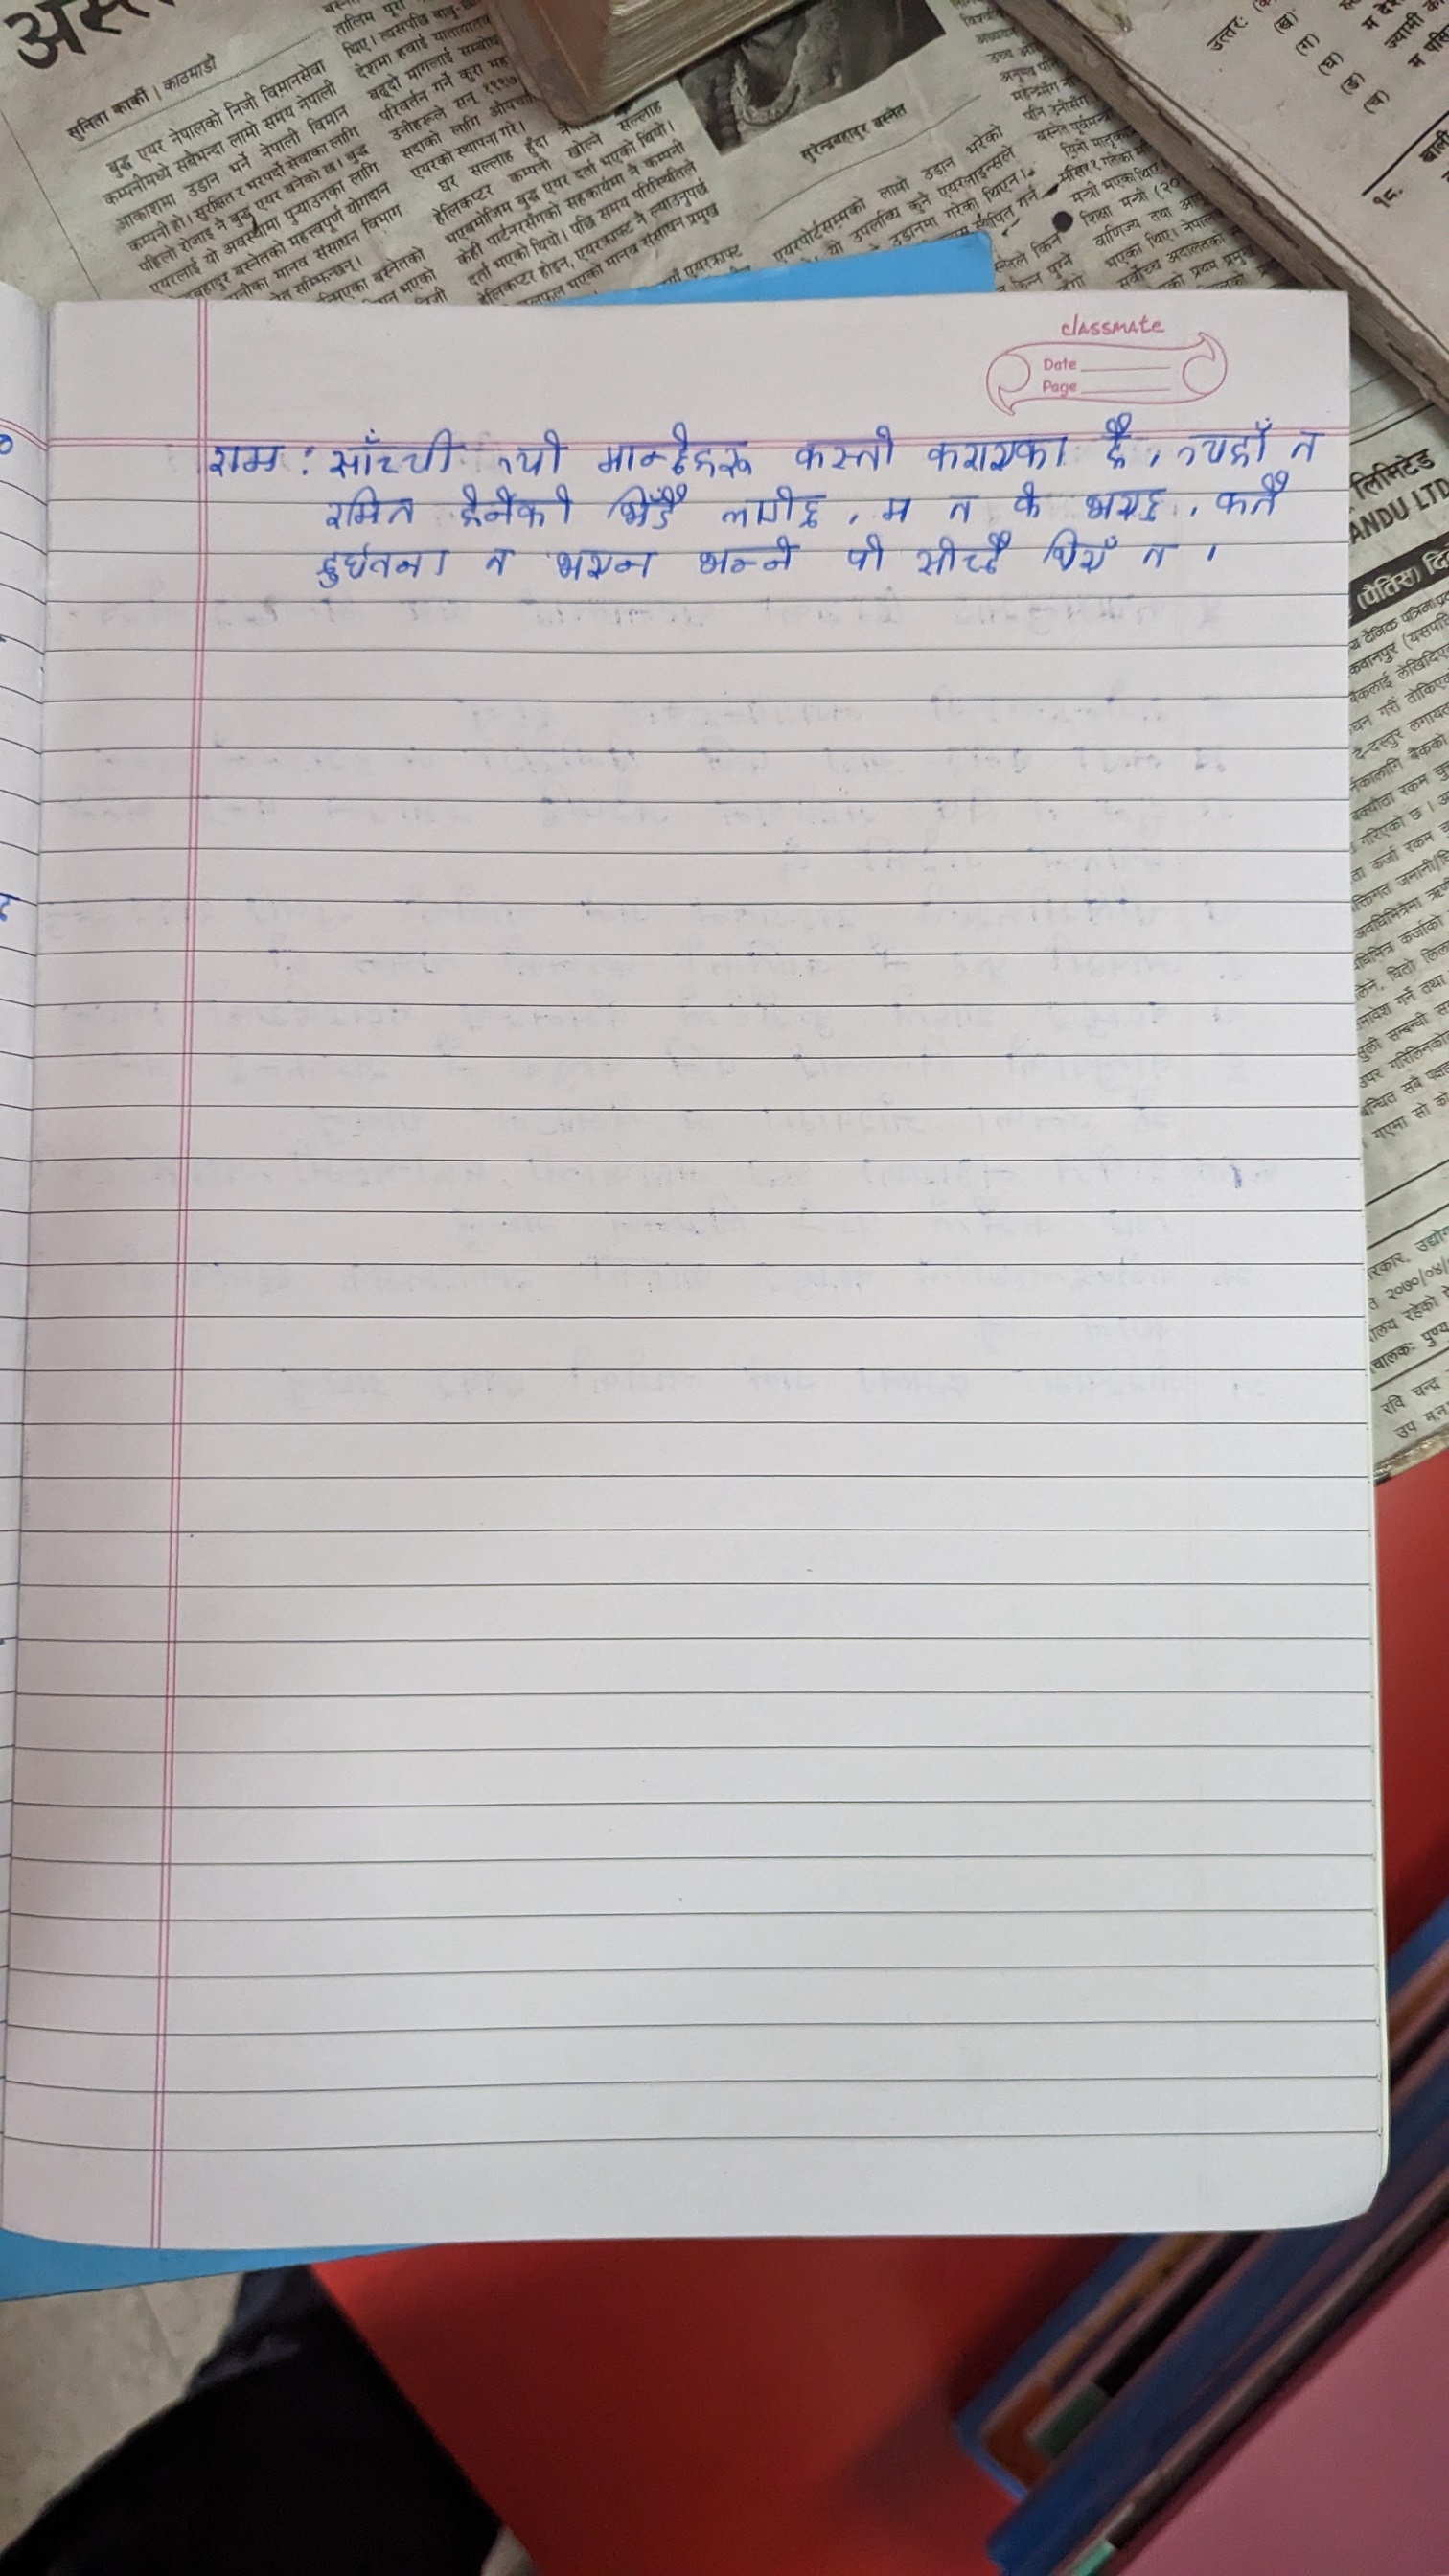text: (600, 421, 755, 478), (329, 419, 453, 478), (311, 545, 458, 589), (922, 432, 1069, 472), (550, 538, 660, 589), (694, 534, 807, 582), (458, 485, 571, 529), (318, 487, 423, 534), (787, 423, 895, 469), (1175, 412, 1267, 465), (916, 534, 1016, 582), (200, 435, 285, 483), (1207, 471, 1290, 518), (720, 490, 826, 527), (603, 485, 681, 527), (1039, 529, 1115, 571), (504, 428, 573, 474), (1085, 487, 1162, 522), (1100, 412, 1139, 469), (844, 536, 892, 573), (870, 487, 913, 524), (1134, 534, 1177, 571), (1005, 481, 1042, 517), (478, 543, 511, 580), (948, 490, 982, 525), (1292, 419, 1315, 464)
